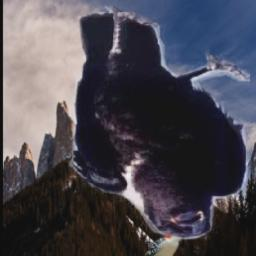Crow: (69, 7, 251, 240)
Woodpecker: (138, 227, 198, 256)
